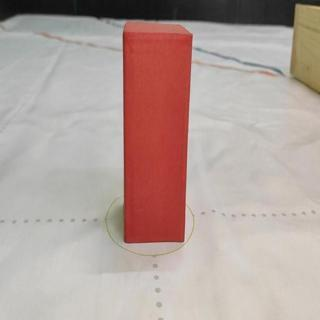redbox: (123, 18, 191, 242)
